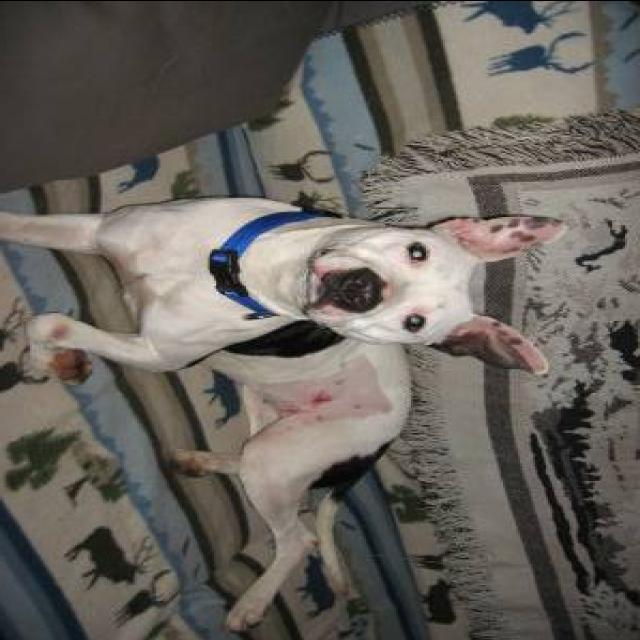dog: (0, 178, 570, 640)
